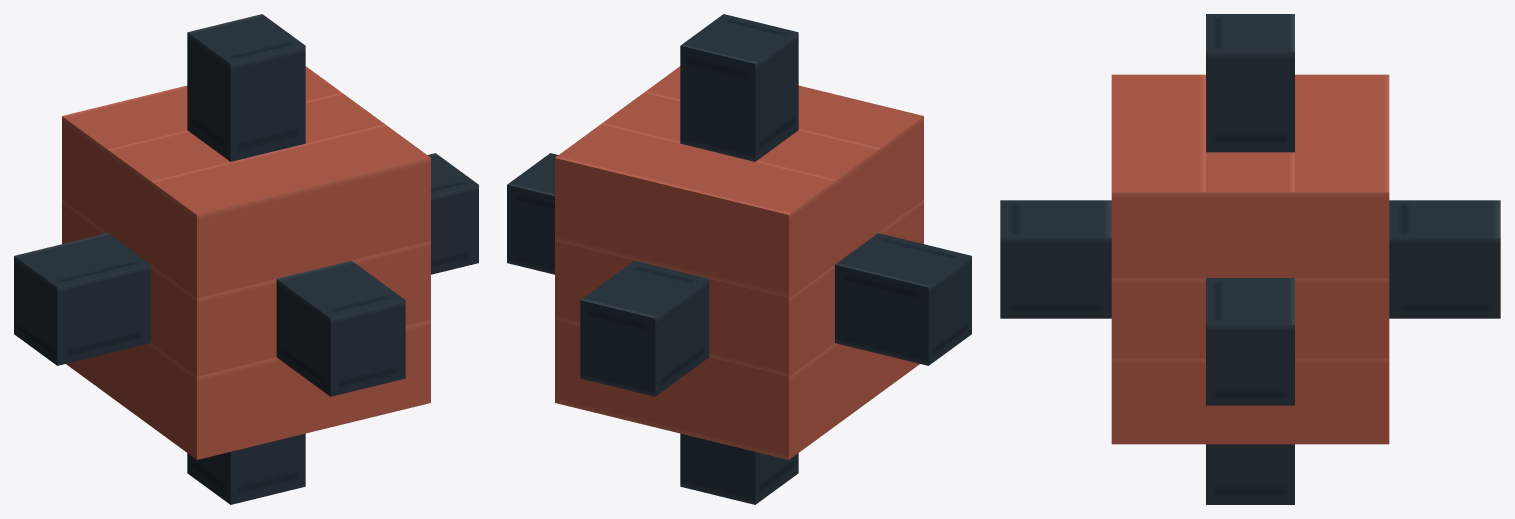
File: sc_pickup_jammer.obj
The picture shows the model from 3 angles, left to right: view 1: azimuth 30°, elevation 25°; view 2: azimuth 150°, elevation 25°; view 3: azimuth 270°, elevation 25°; orthographic projection. The views are drawn at different scales.
Bounding box in the file's own units: 9 × 9 × 9.
Materials: 1 (1 with a texture image).
